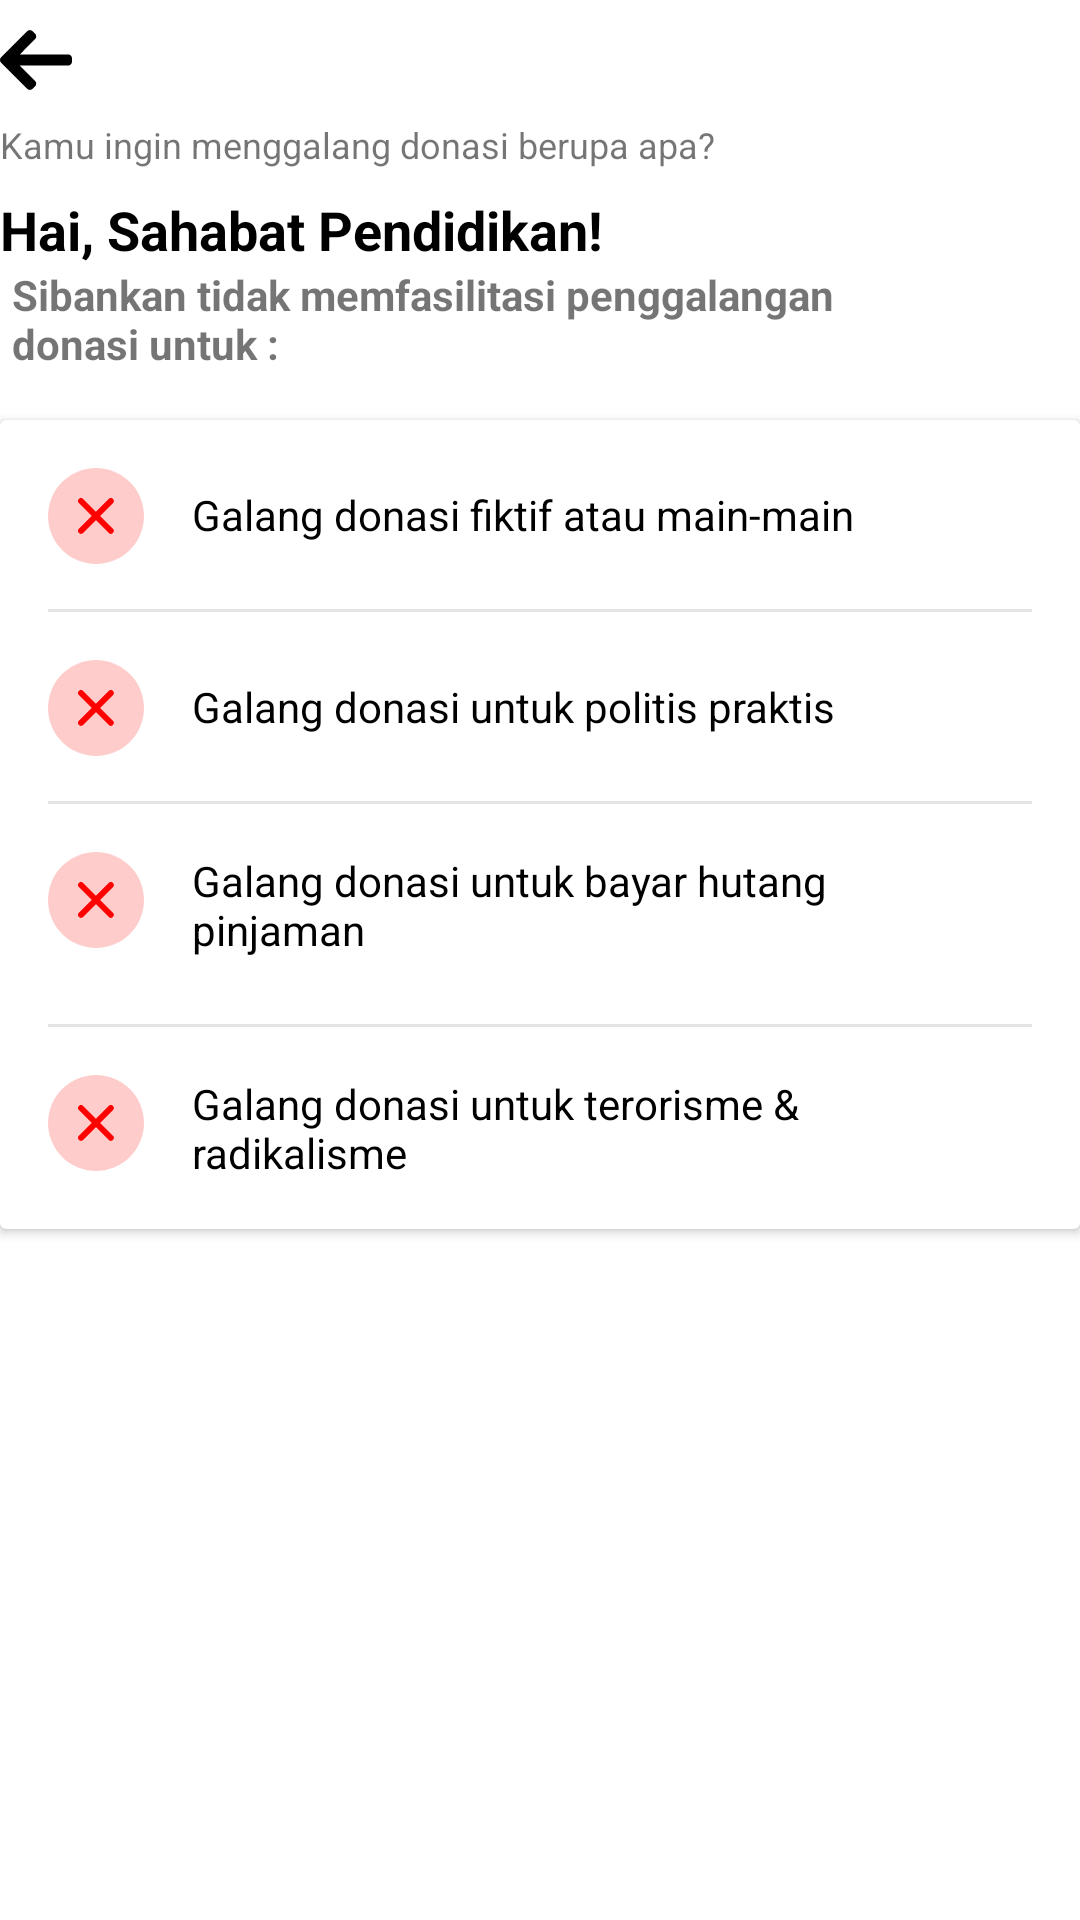

Named icons in this screenshot (1080x1920) and their bounding boxes, detection(x1, y1, x2, y2):
back: detection(0, 30, 72, 90)
silang: detection(48, 468, 144, 564), detection(48, 660, 144, 756), detection(48, 852, 144, 948), detection(48, 1075, 144, 1171)
